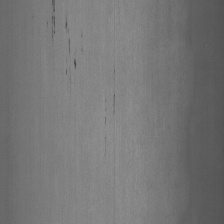inclusion: (62, 14, 84, 88), (103, 66, 117, 154), (49, 0, 57, 41)
